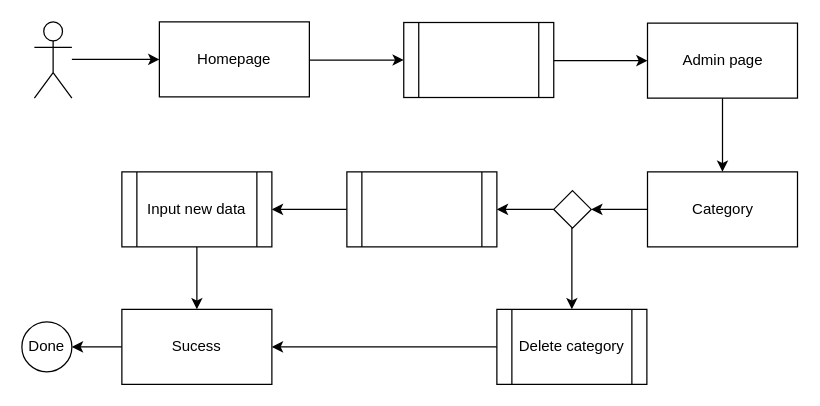
This 820x406 diagram has some shape labels left out. Each missing label, with the centre of its shape:
Admin: (52,59)
Login as Admin: (478,59)
Update category: (421,209)
